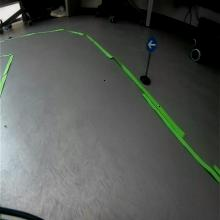left: (147, 36, 157, 52)
